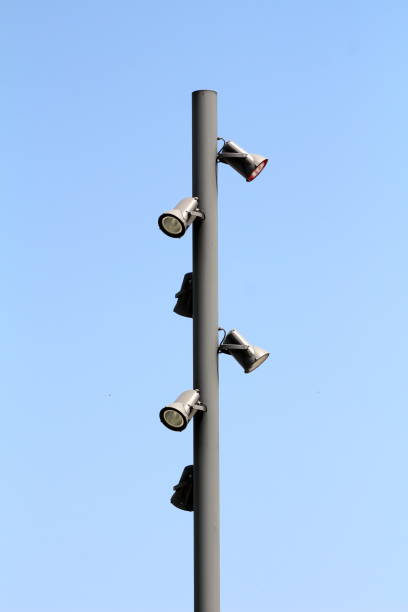light_pole: (187, 92, 222, 612)
